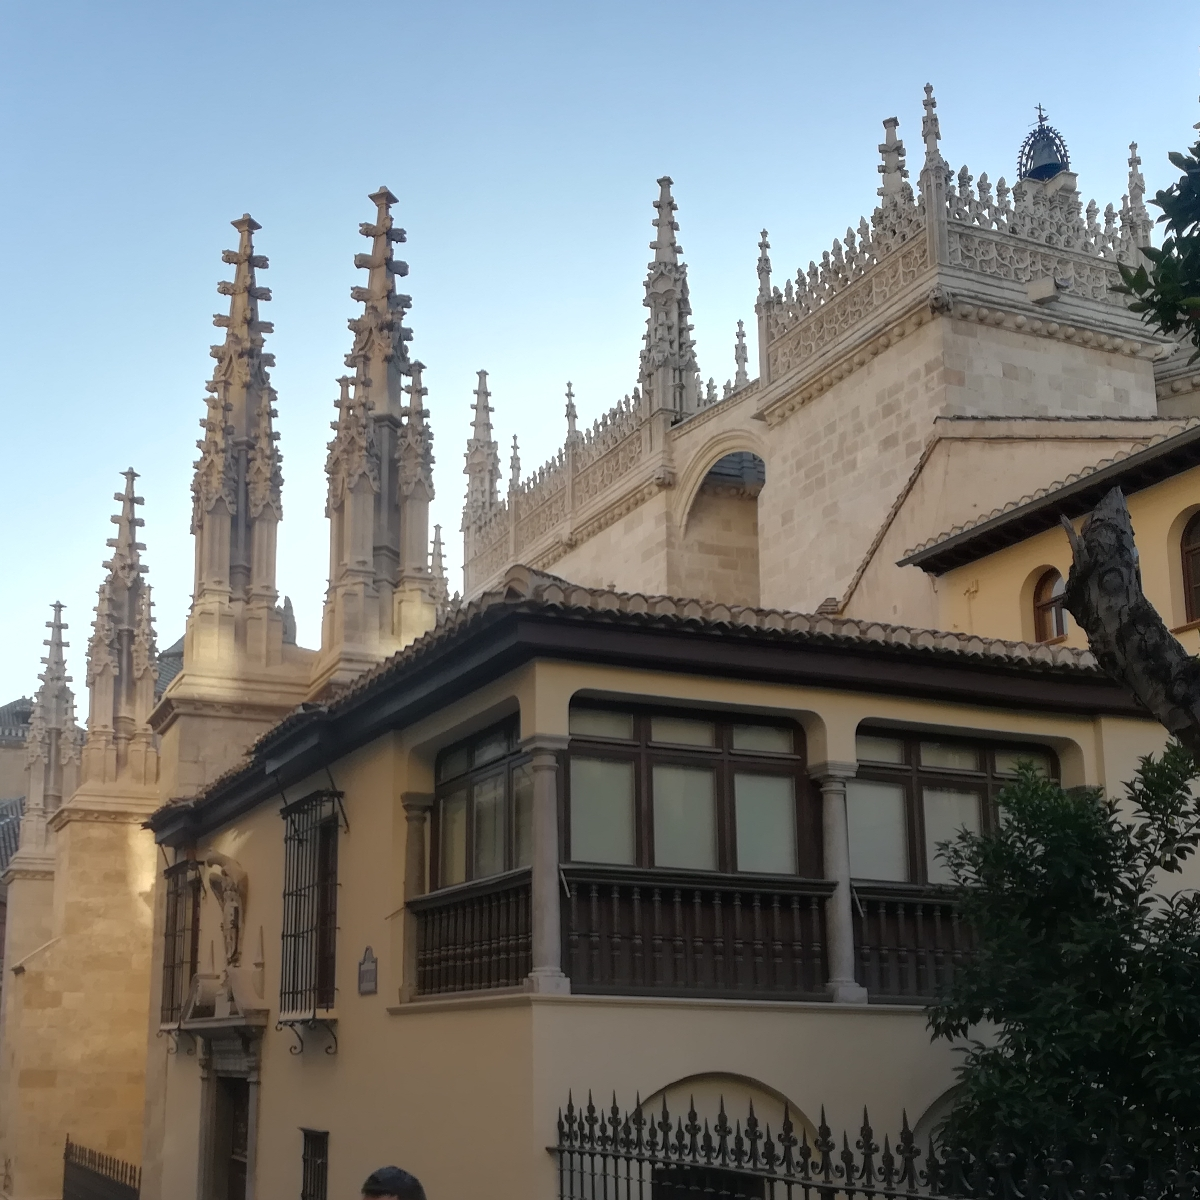pinaculo-gotico: (186, 200, 290, 519), (327, 185, 434, 454), (629, 163, 703, 399), (82, 457, 163, 651), (384, 313, 443, 498), (864, 108, 927, 232), (26, 582, 80, 723), (458, 362, 501, 474)
